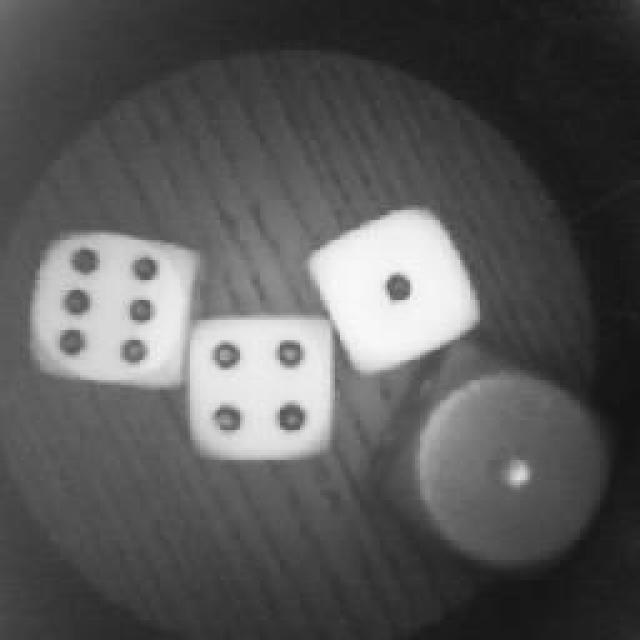dice_1: (400, 352, 615, 582), (320, 202, 472, 378)
dice_4: (180, 313, 340, 465)
dice_6: (30, 228, 198, 398)
